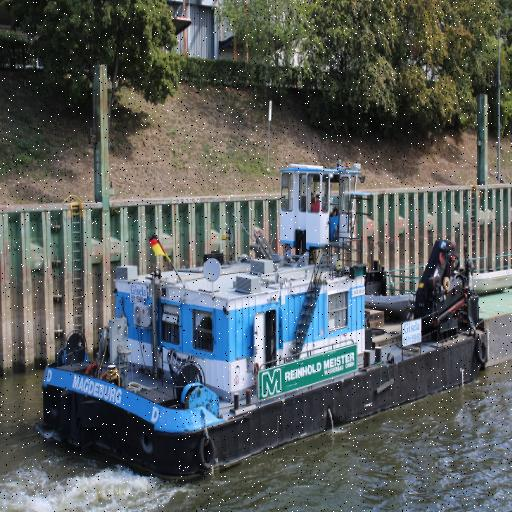tugboat: (36, 162, 496, 491)
